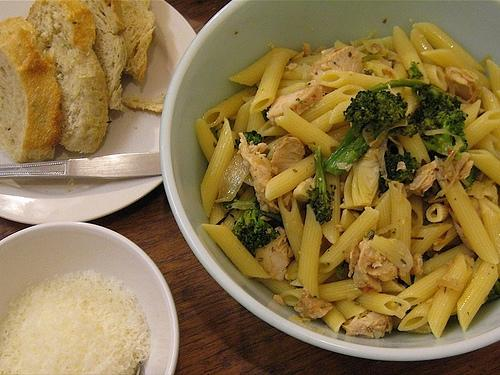broccoli: (324, 90, 408, 176), (366, 78, 461, 110), (230, 208, 280, 258), (306, 146, 334, 225), (387, 105, 426, 138), (384, 150, 419, 182), (460, 166, 478, 190), (406, 61, 424, 80), (243, 130, 263, 145), (421, 118, 439, 132)
